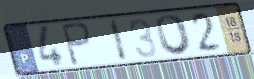2: (191, 11, 224, 55)
3: (128, 17, 158, 59)
4: (38, 24, 65, 70)
I: (108, 18, 130, 63)
O: (153, 13, 195, 57)
P: (59, 21, 93, 68)
